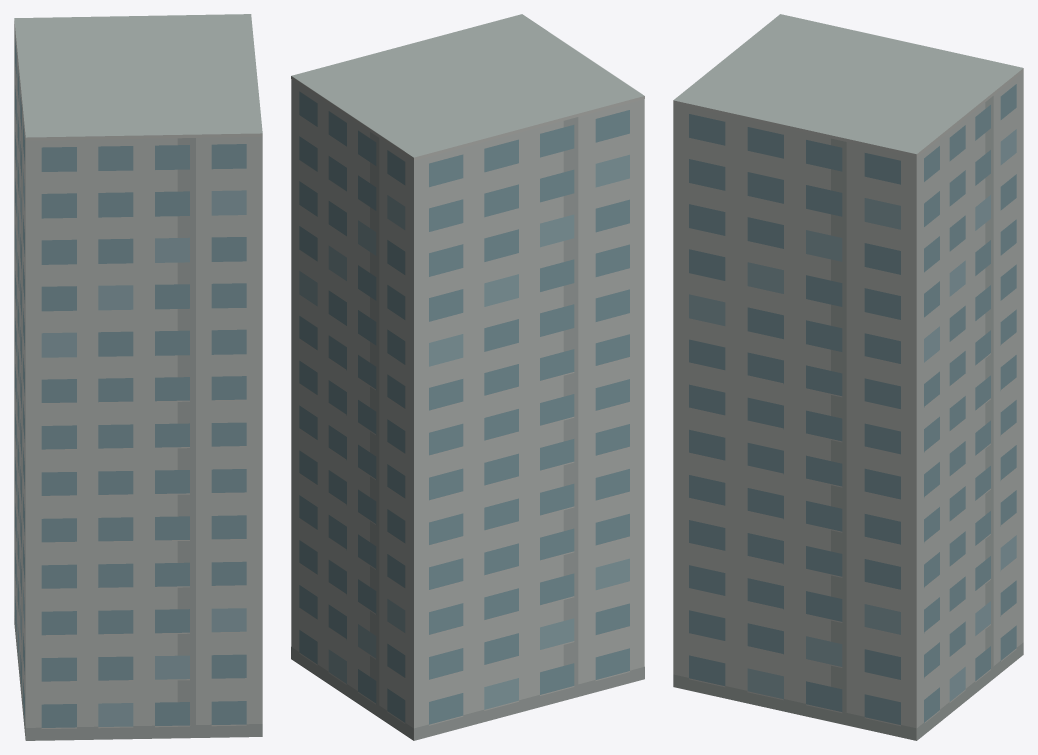
The model's file is residential-61675614-3d03-4ed8-9290-7895352f0be0.glb.
3 views of the same model, side by side, from view 1: azimuth 30°, elevation 25°; view 2: azimuth 150°, elevation 25°; view 3: azimuth 270°, elevation 25° (orthographic). The views are drawn at different scales.
Parts seen in each view (by area): view 1: residential-61675614-3d03-4ed8-9290-7895352f0be0.tmp; view 2: residential-61675614-3d03-4ed8-9290-7895352f0be0.tmp; view 3: residential-61675614-3d03-4ed8-9290-7895352f0be0.tmp.
Boxes of the visible parts, left/top/right/bottom form: residential-61675614-3d03-4ed8-9290-7895352f0be0.tmp: left=14, top=14, right=262, bottom=740; residential-61675614-3d03-4ed8-9290-7895352f0be0.tmp: left=291, top=14, right=644, bottom=740; residential-61675614-3d03-4ed8-9290-7895352f0be0.tmp: left=673, top=14, right=1023, bottom=740.
Bounding box in the file's own units: 22.57 × 44 × 23.83.
